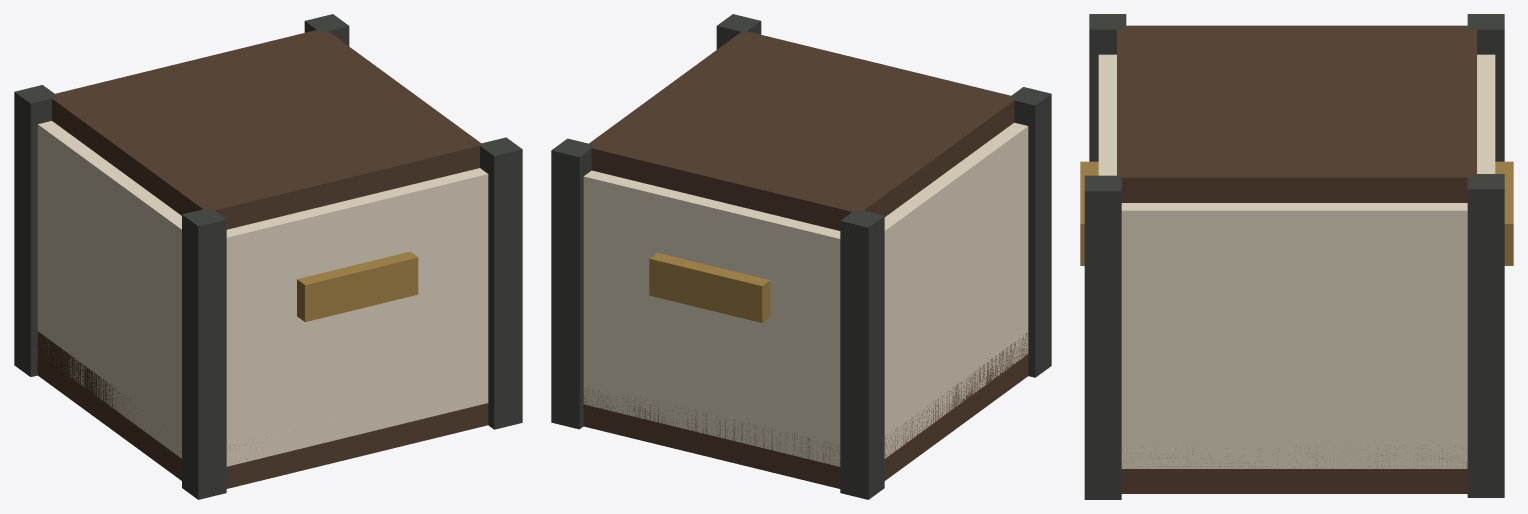
Rendered from crate.glb.
3 renders of one model, left to right at view 1: azimuth 30°, elevation 25°; view 2: azimuth 150°, elevation 25°; view 3: azimuth 270°, elevation 25°, orthographic. The views are drawn at different scales.
Visible parts, largest first — view 1: crate; view 2: crate; view 3: crate.
Boxes of the visible parts, x1,y1,x2,y2 form: crate: (14,14,522,499); crate: (551,14,1051,499); crate: (1080,14,1513,499).
Bounding box in the file's own units: 0.91 × 0.738 × 0.94.
